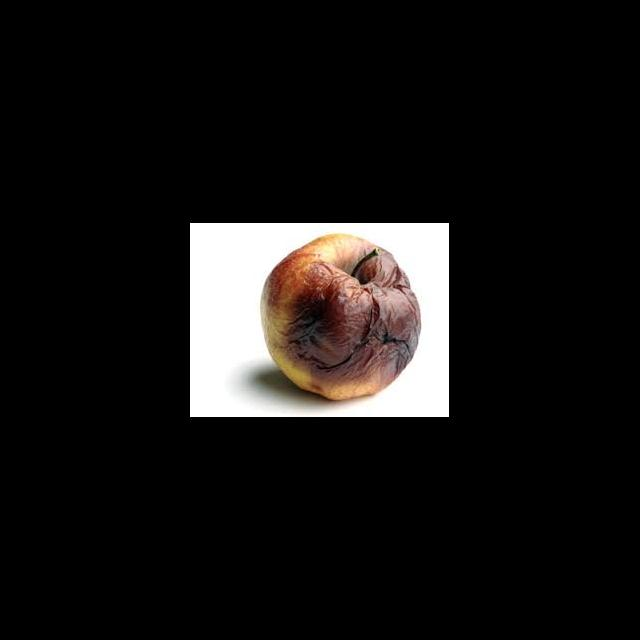food_waste: (247, 223, 432, 414)
